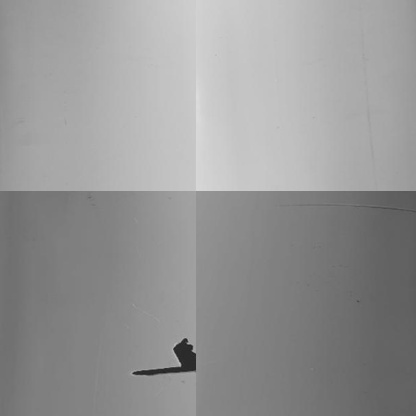fengxi: (128, 366, 196, 379)
kongdong: (173, 337, 195, 367)
